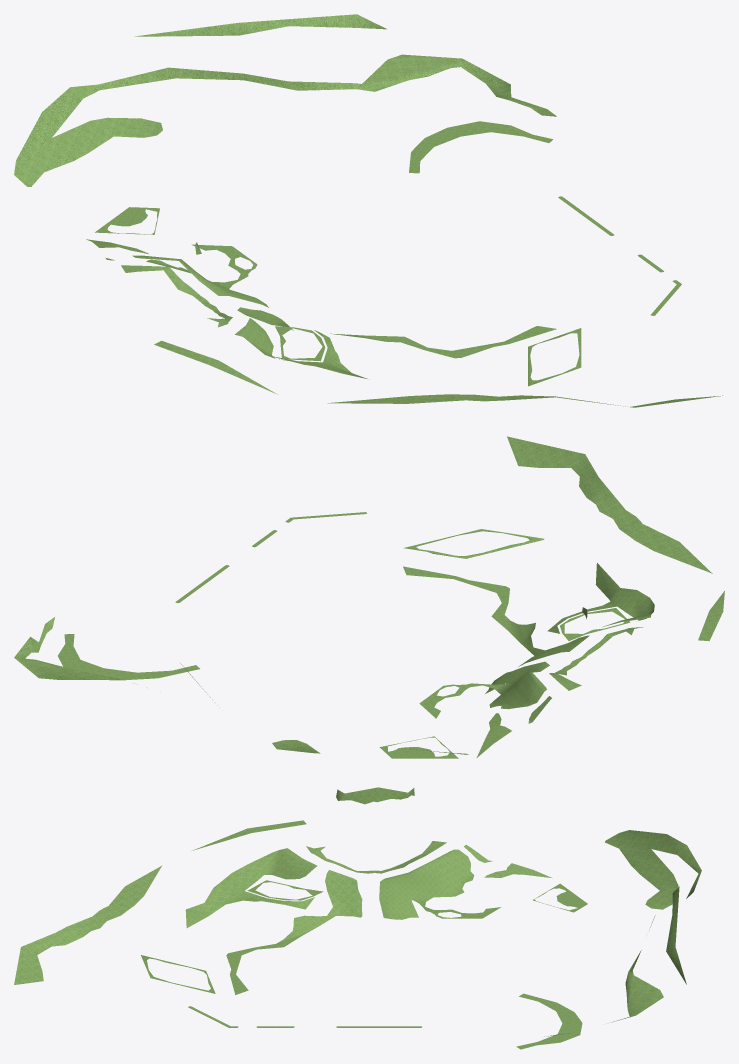
Rendered from kd_stage_135fe0_4_6.glb.
The picture shows the model from 3 angles, top to bottom: view 1: azimuth 30°, elevation 25°; view 2: azimuth 150°, elevation 25°; view 3: azimuth 270°, elevation 25°; orthographic projection. The views are drawn at different scales.
Parts seen in each view (by area): view 1: kd_stage_135fe0_4_6; view 2: kd_stage_135fe0_4_6; view 3: kd_stage_135fe0_4_6.
Boxes of the visible parts, bbox=[...] form: kd_stage_135fe0_4_6: bbox=[14, 14, 722, 407]; kd_stage_135fe0_4_6: bbox=[14, 436, 724, 758]; kd_stage_135fe0_4_6: bbox=[14, 787, 701, 1049].
Bounding box in the file's own units: 103 × 20.89 × 145.
1 material, 1 textured.
